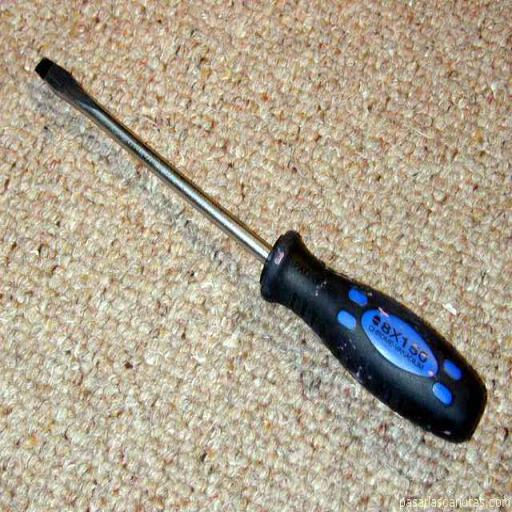screwdriver: (35, 56, 488, 444)
